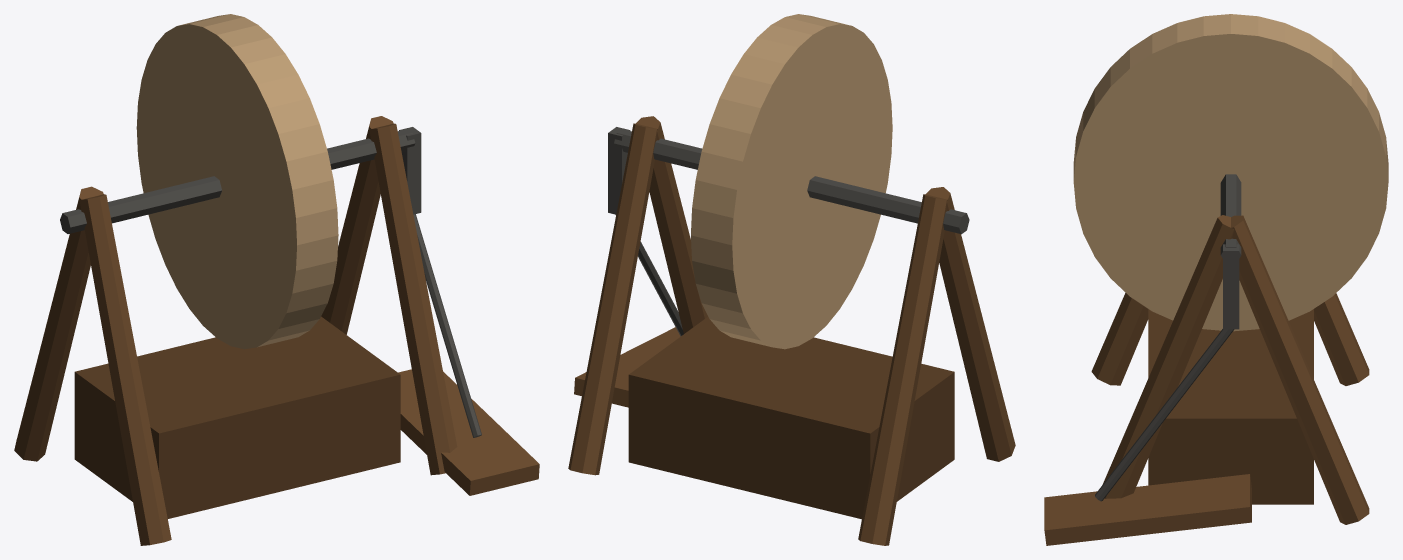
File: grindstone-a.glb
3 renders of one model, left to right at view 1: azimuth 30°, elevation 25°; view 2: azimuth 150°, elevation 25°; view 3: azimuth 270°, elevation 25°, orthographic.
Parts seen in each view (by area): view 1: Body_Stone, Body_WoodDark, Body_Wood, Body_Iron; view 2: Body_Stone, Body_WoodDark, Body_Wood, Body_Iron; view 3: Body_Stone, Body_Wood, Body_WoodDark, Body_Iron.
Part boxes in pixels (x1=…): Body_Stone: x1=136, y1=14, x2=338, y2=349; Body_WoodDark: x1=74, y1=316, x2=400, y2=518; Body_Wood: x1=14, y1=116, x2=539, y2=545; Body_Iron: x1=60, y1=127, x2=481, y2=437; Body_Stone: x1=691, y1=14, x2=892, y2=349; Body_WoodDark: x1=628, y1=317, x2=954, y2=519; Body_Wood: x1=568, y1=116, x2=1015, y2=545; Body_Iron: x1=608, y1=127, x2=969, y2=336; Body_Stone: x1=1073, y1=14, x2=1388, y2=331; Body_Wood: x1=1044, y1=215, x2=1369, y2=545; Body_WoodDark: x1=1148, y1=309, x2=1313, y2=504; Body_Iron: x1=1095, y1=174, x2=1241, y2=501.
Bounding box in the file's own units: 1 × 1.1 × 0.8.
